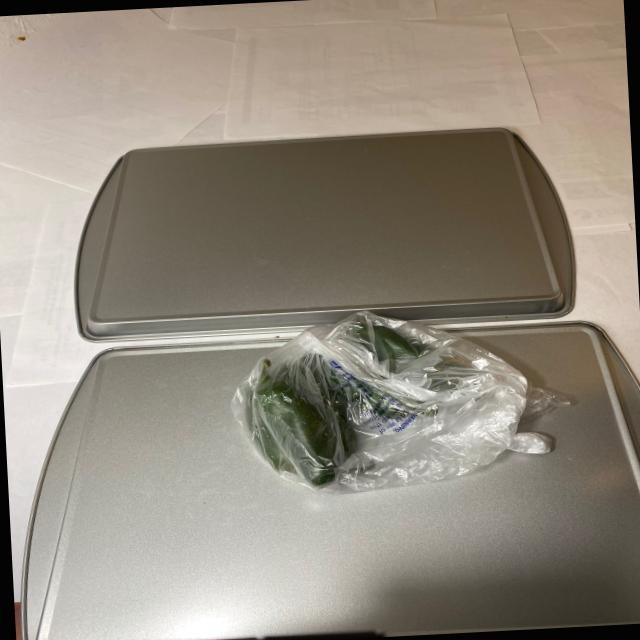chilli: (234, 312, 459, 493)
